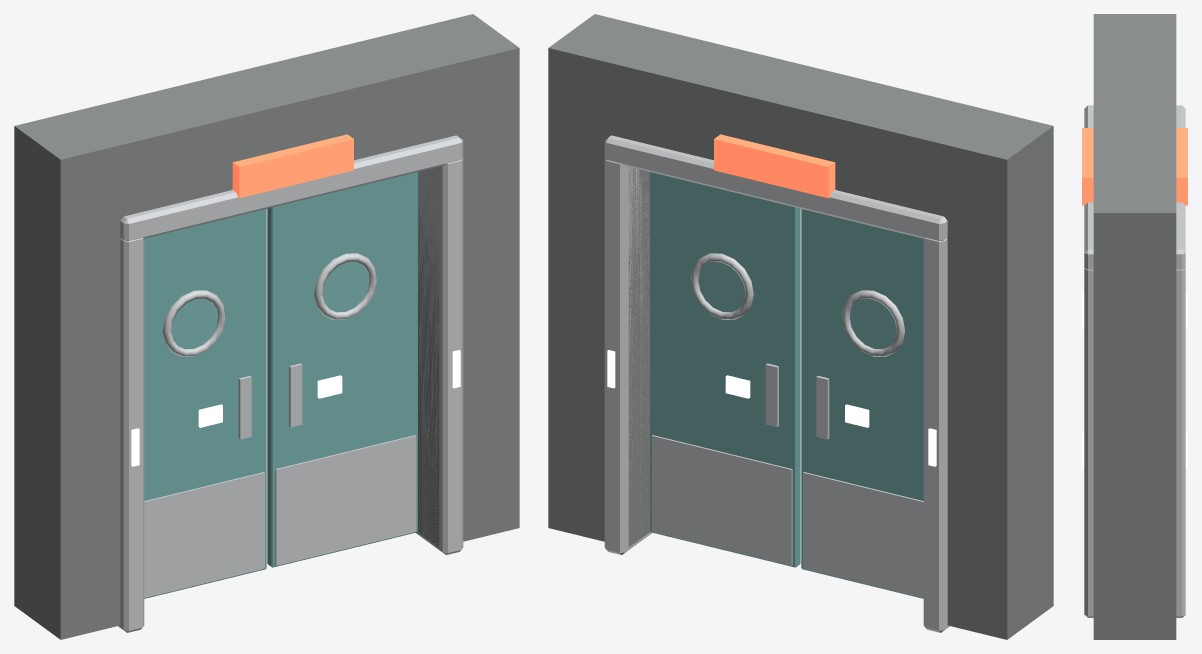
Rendered from door_hs_swing.glb.
The picture shows the model from 3 angles, left to right: view 1: azimuth 30°, elevation 25°; view 2: azimuth 150°, elevation 25°; view 3: azimuth 270°, elevation 25°; orthographic projection. The views are drawn at different scales.
Visible parts, largest first — view 1: frame, leaf_r, leaf_l; view 2: frame, leaf_r, leaf_l; view 3: frame.
Boxes of the visible parts, bbox=[...] form: frame: bbox=[14, 14, 519, 639]; leaf_r: bbox=[267, 172, 417, 567]; leaf_l: bbox=[144, 209, 266, 598]; frame: bbox=[548, 14, 1053, 639]; leaf_r: bbox=[650, 172, 800, 567]; leaf_l: bbox=[801, 209, 923, 598]; frame: bbox=[1082, 14, 1187, 639].
Size of the model in its own units: 4 by 4.05 by 0.9.
